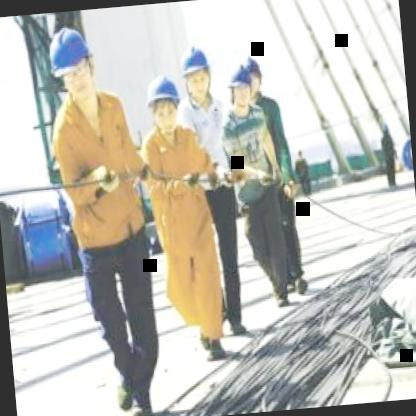helmet: (44, 18, 100, 112), (142, 68, 186, 138), (178, 40, 216, 107), (226, 66, 254, 112), (242, 53, 266, 98)
